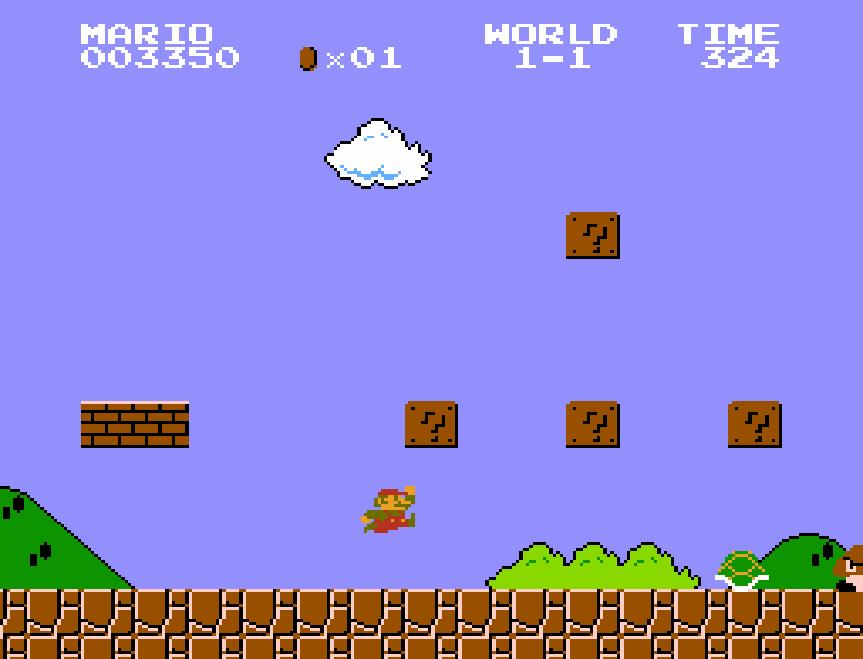little_mario: (358, 485, 416, 535)
